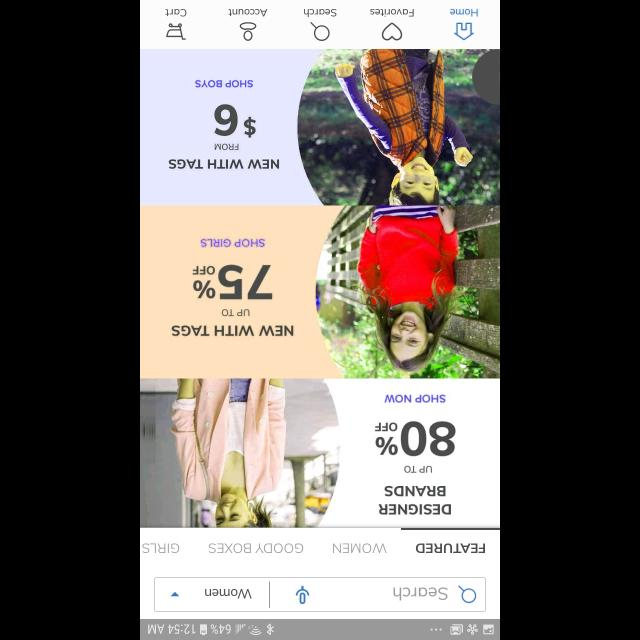icon: (310, 22, 330, 42), (454, 22, 474, 40), (382, 23, 402, 41), (458, 585, 476, 603), (240, 22, 256, 42), (166, 24, 186, 40), (295, 584, 309, 604), (170, 592, 180, 596)
image: (316, 205, 500, 378), (297, 49, 499, 205), (140, 378, 340, 528)
input: (154, 576, 486, 612)
text: (378, 486, 450, 514), (400, 420, 456, 456), (218, 264, 272, 300), (171, 326, 293, 336), (169, 159, 279, 169), (208, 543, 304, 553), (214, 104, 238, 136), (393, 587, 447, 601), (416, 543, 484, 553), (333, 543, 387, 553), (201, 239, 265, 247), (384, 394, 446, 402), (374, 436, 398, 456), (204, 588, 252, 598), (195, 80, 253, 88), (192, 280, 215, 298), (143, 543, 180, 553), (370, 9, 414, 17), (304, 8, 336, 18), (228, 9, 268, 17), (244, 116, 256, 138), (374, 422, 398, 432), (404, 465, 432, 473), (222, 308, 250, 316), (450, 9, 478, 17), (193, 266, 215, 274), (165, 9, 187, 17), (214, 144, 238, 150)
uppertaskbar: (140, 618, 500, 640)
